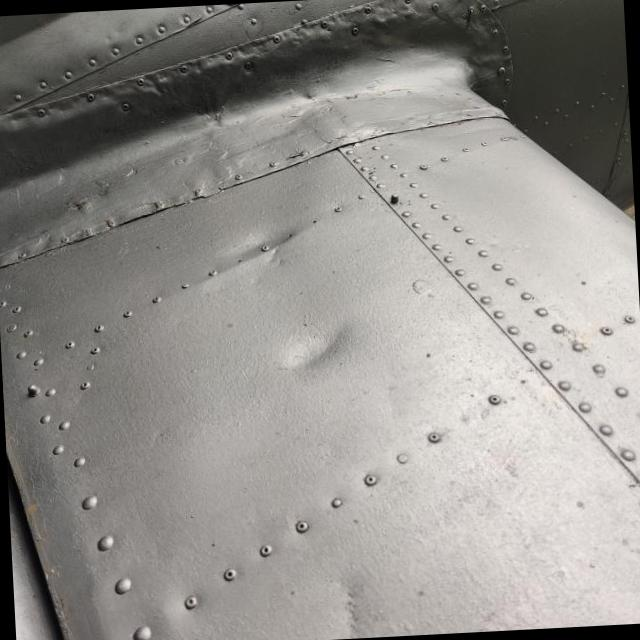Dent: (202, 199, 320, 294), (281, 307, 365, 391)
